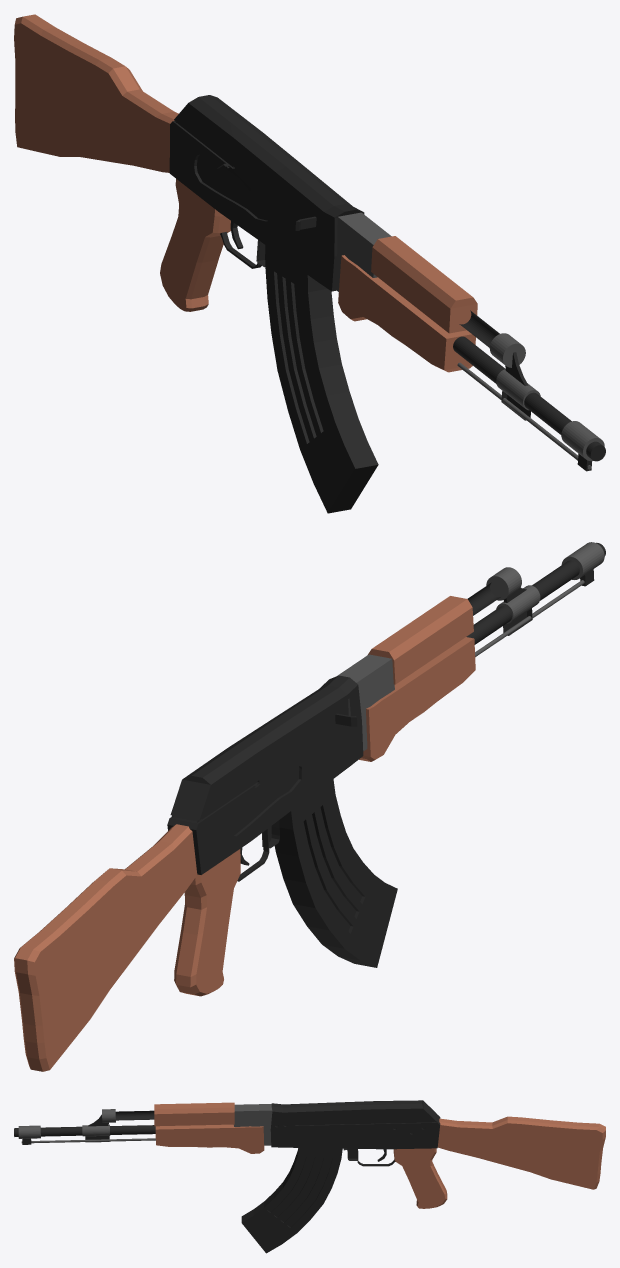
3 renders of one model, top to bottom at view 1: azimuth 30°, elevation 25°; view 2: azimuth 150°, elevation 25°; view 3: azimuth 270°, elevation 25°, orthographic. The views are drawn at different scales.
Visible parts, largest first — view 1: Body, Cartridge, Reloader; view 2: Body, Cartridge, Reloader; view 3: Body, Cartridge.
Part boxes in pixels (left/top/right/bottom): Body: left=14, top=14, right=605, bottom=471; Cartridge: left=265, top=245, right=378, bottom=513; Reloader: left=236, top=169, right=324, bottom=243; Body: left=14, top=542, right=605, bottom=1071; Cartridge: left=274, top=779, right=397, bottom=967; Reloader: left=259, top=699, right=357, bottom=783; Body: left=14, top=1100, right=605, bottom=1208; Cartridge: left=241, top=1148, right=342, bottom=1253.
Size of the model in its own units: 20.86 by 120 by 420.
